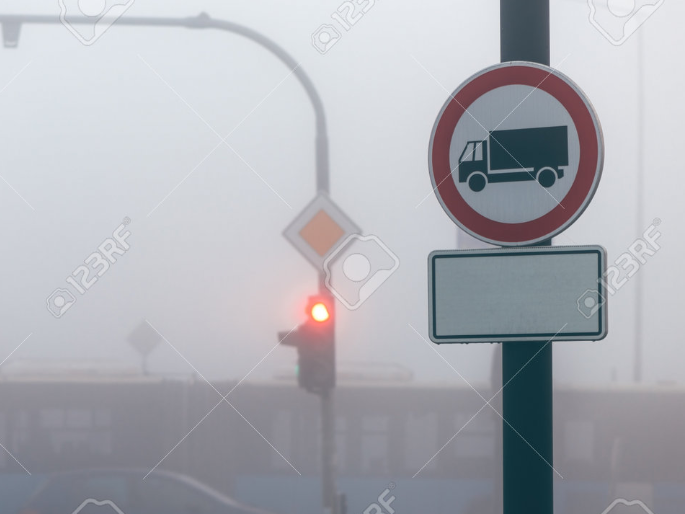Heavy Vehicles: (408, 55, 619, 255)
